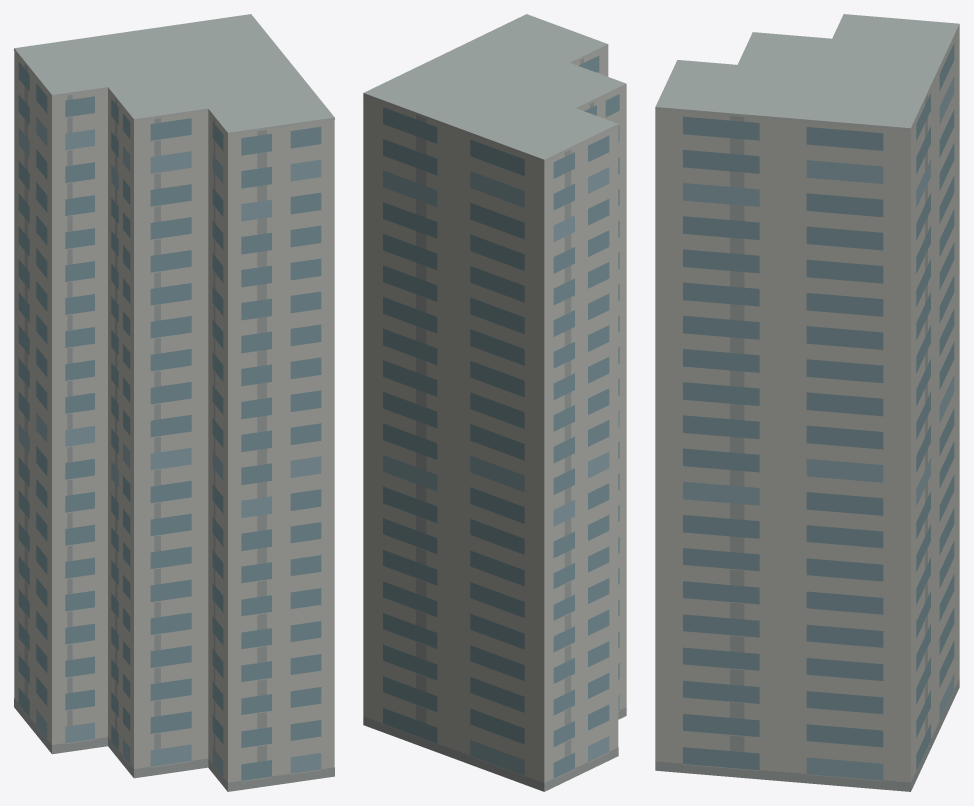
The model's file is residential-52854349-af1f-4273-8092-42fc5f84cbb0.glb.
3 renders of one model, left to right at view 1: azimuth 30°, elevation 25°; view 2: azimuth 150°, elevation 25°; view 3: azimuth 270°, elevation 25°, orthographic. The views are drawn at different scales.
Visible parts, largest first — view 1: residential-52854349-af1f-4273-8092-42fc5f84cbb0.tmp; view 2: residential-52854349-af1f-4273-8092-42fc5f84cbb0.tmp; view 3: residential-52854349-af1f-4273-8092-42fc5f84cbb0.tmp.
Part boxes in pixels (x1,y1,x2,y2): residential-52854349-af1f-4273-8092-42fc5f84cbb0.tmp: [14, 14, 334, 791]; residential-52854349-af1f-4273-8092-42fc5f84cbb0.tmp: [363, 14, 626, 791]; residential-52854349-af1f-4273-8092-42fc5f84cbb0.tmp: [655, 14, 959, 791].
Bounding box in the file's own units: 22.53 × 61 × 25.36.
